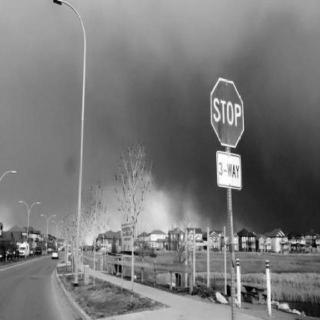Fire: (111, 188, 171, 244), (83, 226, 97, 250)
